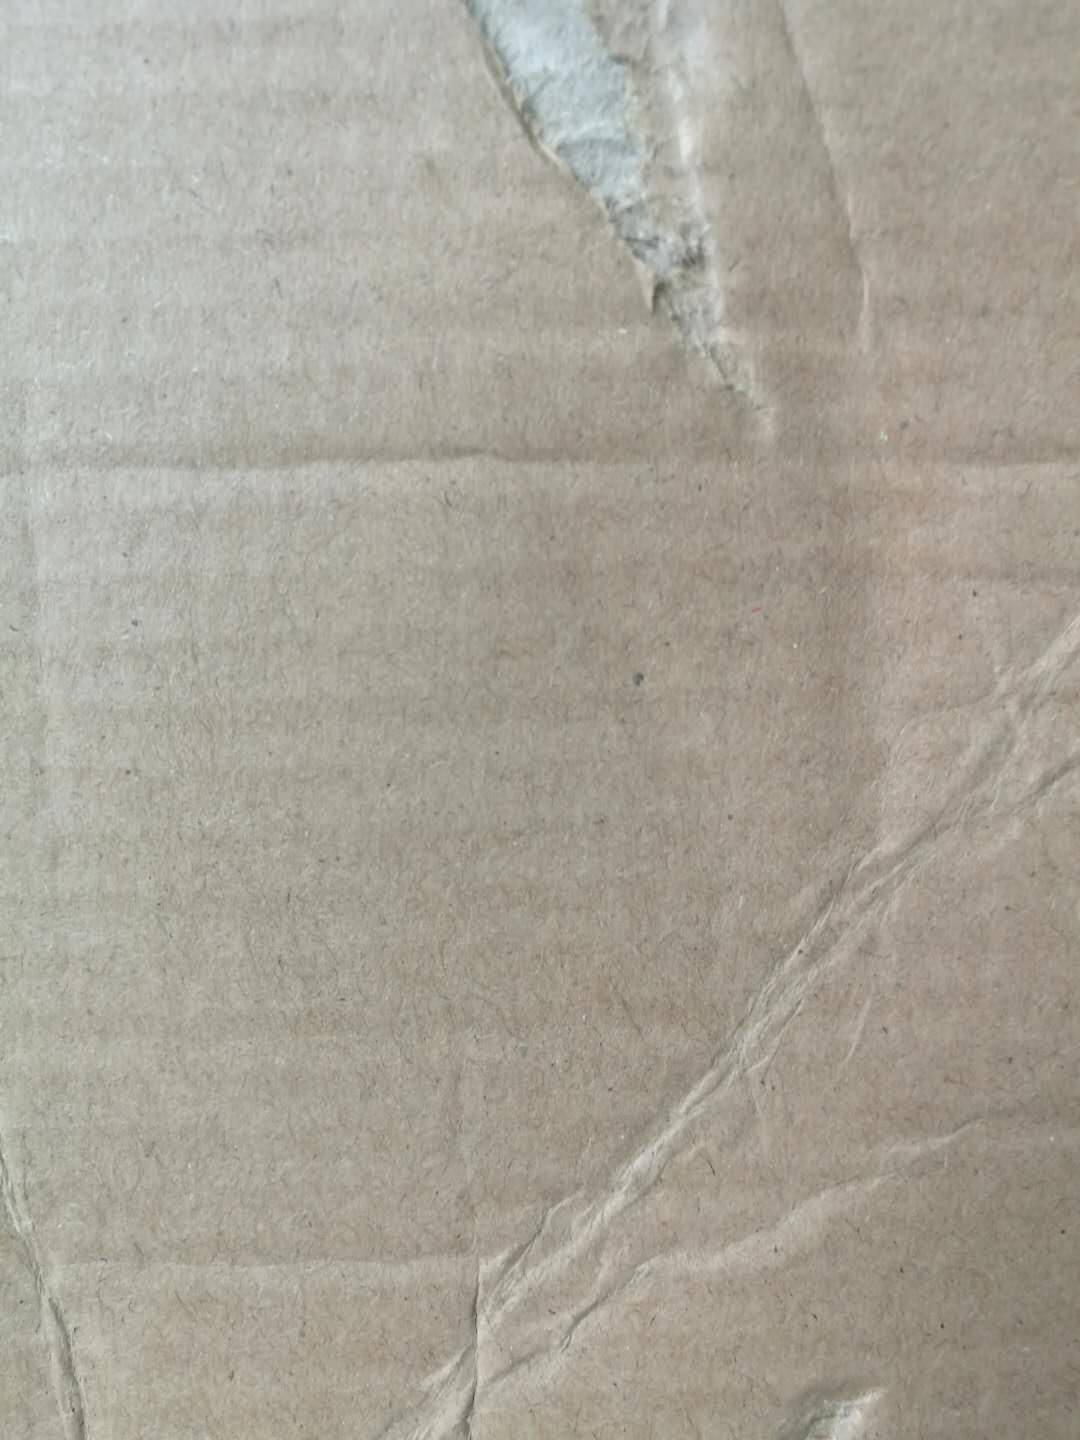defect: (306, 607, 1080, 1440), (3, 401, 1080, 604), (417, 5, 885, 464), (1, 1130, 609, 1440)
